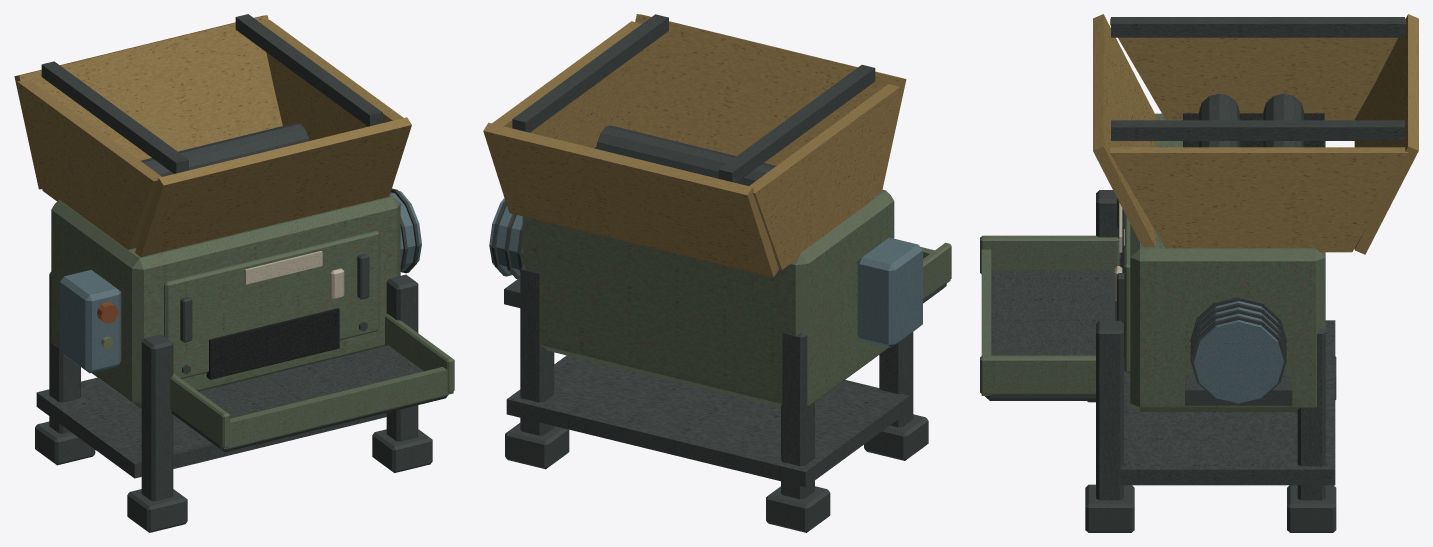
The model's file is CompactTier1Scrapper.fbx.
3 renders of one model, left to right at view 1: azimuth 30°, elevation 25°; view 2: azimuth 150°, elevation 25°; view 3: azimuth 270°, elevation 25°, orthographic. The views are drawn at different scales.
Parts seen in each view (by area): view 1: CompactTier1Scrapper; view 2: CompactTier1Scrapper; view 3: CompactTier1Scrapper.
Boxes of the visible parts, x1=… form: CompactTier1Scrapper: x1=14, y1=14, x2=454, y2=532; CompactTier1Scrapper: x1=483, y1=14, x2=951, y2=532; CompactTier1Scrapper: x1=980, y1=14, x2=1418, y2=532.
Size of the model in its own units: 207 by 198 by 204.
1 material, 1 textured.
